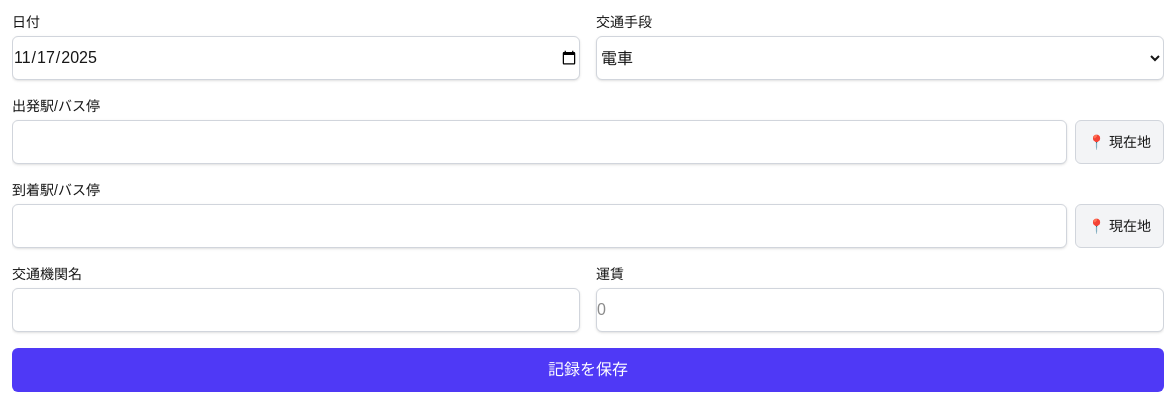
Test: TravelExpenseForm geolocation integration › fills fromStation and sets train when selecting a nearby station
Click the button with aria-label "現在地から出発駅を検索".
click(1119, 142)  # box [1075, 120, 1164, 164]
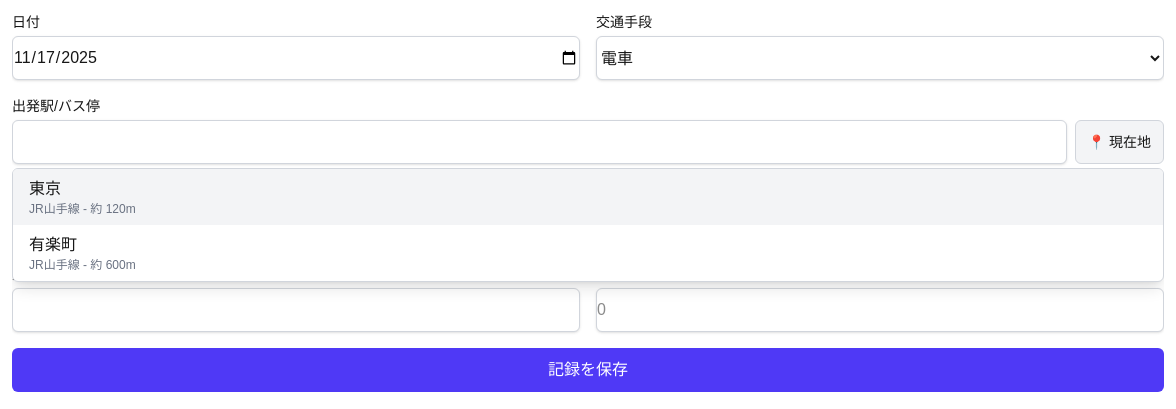
Result: the text "東京" is shown
Click the text "東京".
click(45, 188)  # box [29, 180, 61, 197]
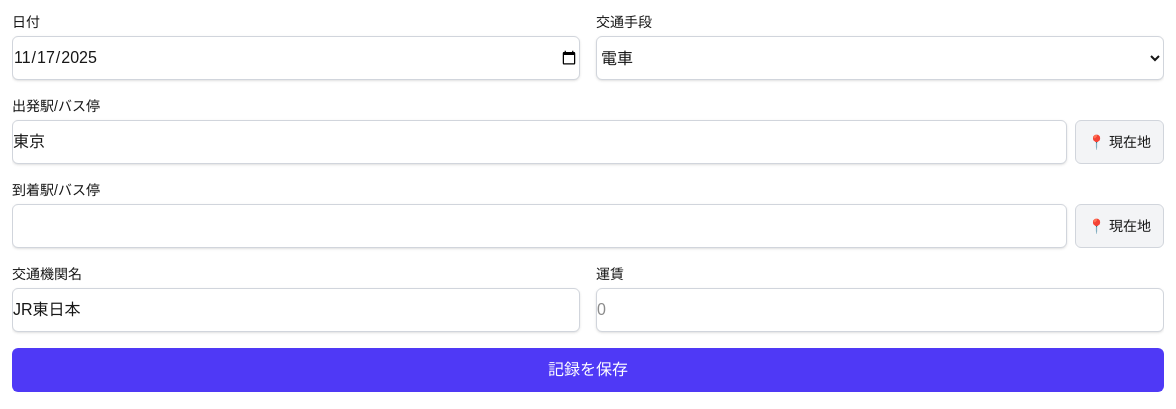
Expected: the dropdown labelled "交通手段" shows "電車", [596, 36, 1164, 80]
Result: the field labelled "出発駅/バス停" holds "東京" at [12, 120, 1067, 164]
